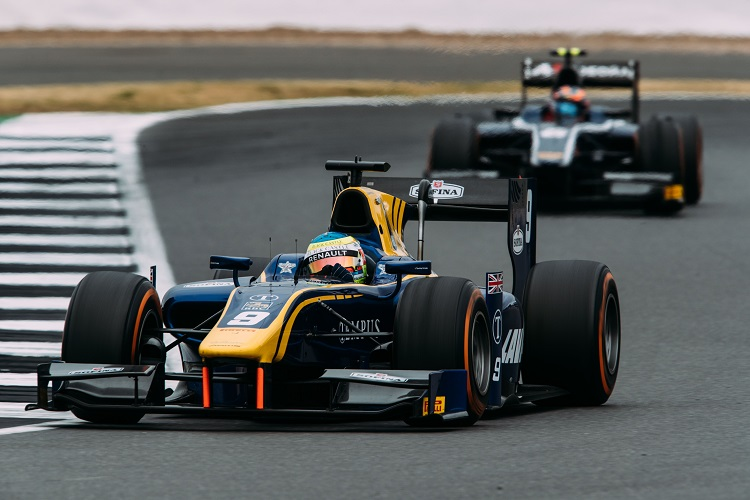race car: (24, 154, 625, 435), (420, 45, 706, 219)
